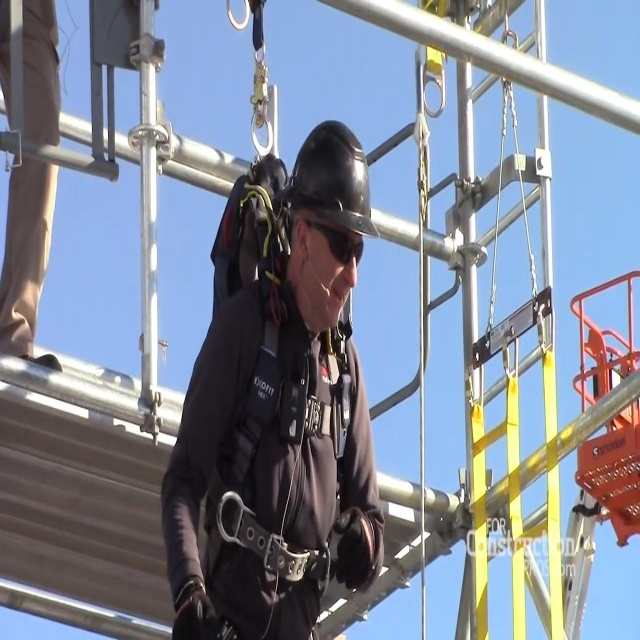Arnes_seguridad: (183, 180, 379, 640)
